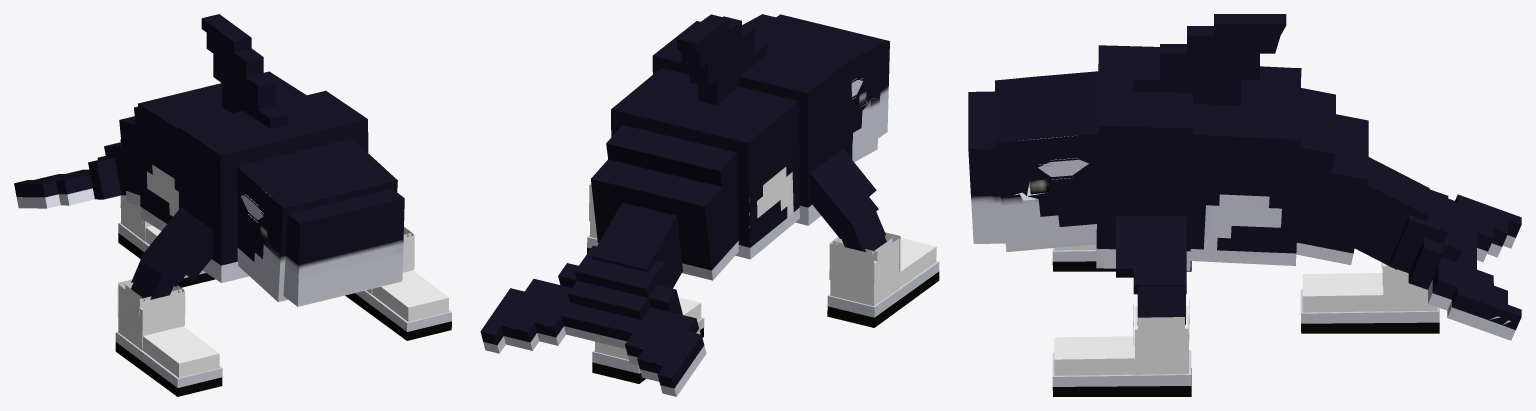
The model's file is Orcaleo.fbx.
3 renders of one model, left to right at view 1: azimuth 30°, elevation 25°; view 2: azimuth 150°, elevation 25°; view 3: azimuth 270°, elevation 25°, orthographic. The views are drawn at different scales.
Visible parts, largest first — view 1: Orcaleo; view 2: Orcaleo; view 3: Orcaleo.
Boxes of the visible parts, <box> form: Orcaleo: <box>14,14,451,396</box>; Orcaleo: <box>480,14,939,396</box>; Orcaleo: <box>968,14,1521,396</box>.
Size of the model in its own units: 762 by 720 by 1190.
Materials: 2 (1 with a texture image).
